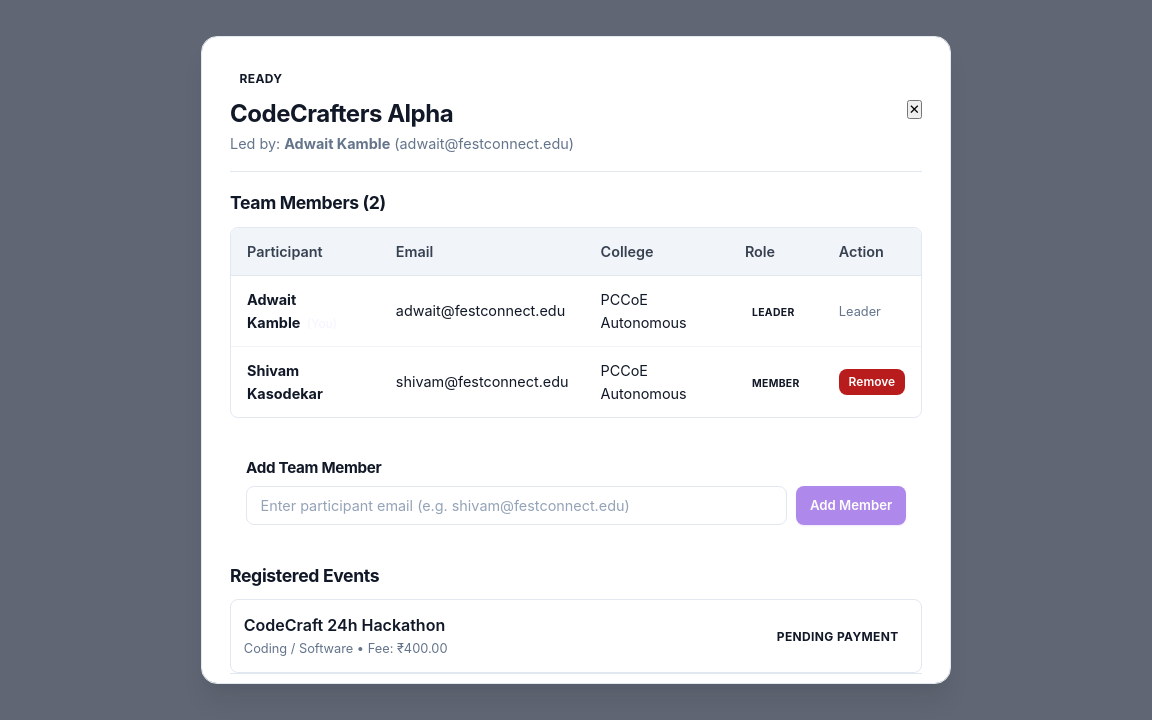
Test: Phase 05 — Team & Registration Frontend Component Tests › TeamDetailModal › renders member roster and allows team leader to add member by email
This screenshot has width=1152, height=720.
expect the heading "Team Members (2)" is shown: met, box [230,192,386,214]
expect the text "Adwait Kamble" is shown 2 times: met, box [284,135,390,152]; [247,291,300,331]
// Team leader can see Add Member form
Type "nikhil@festconnect.edu" into the field with placeholder "Enter participant email (e.g. shivam@festconnect.edu)".
click(516, 506); type("nikhil@festconnect.edu")  # box [246,486,786,525]
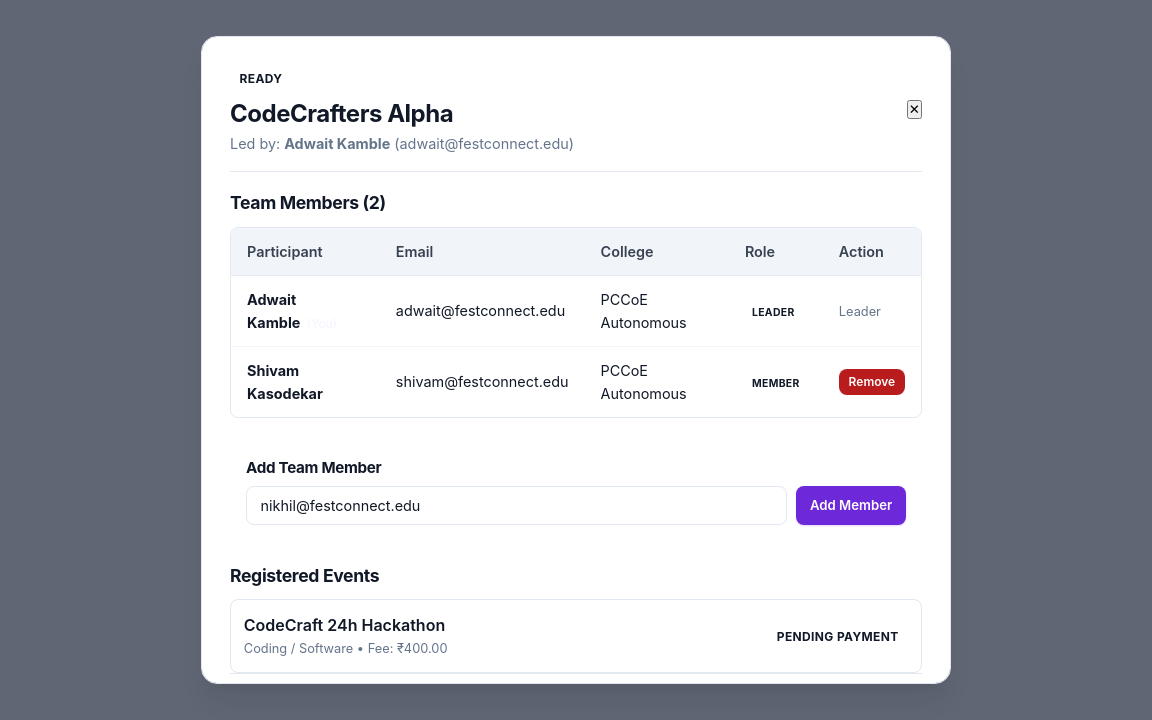
Click the button "Add Member".
click(851, 506)  # box [796,486,906,525]
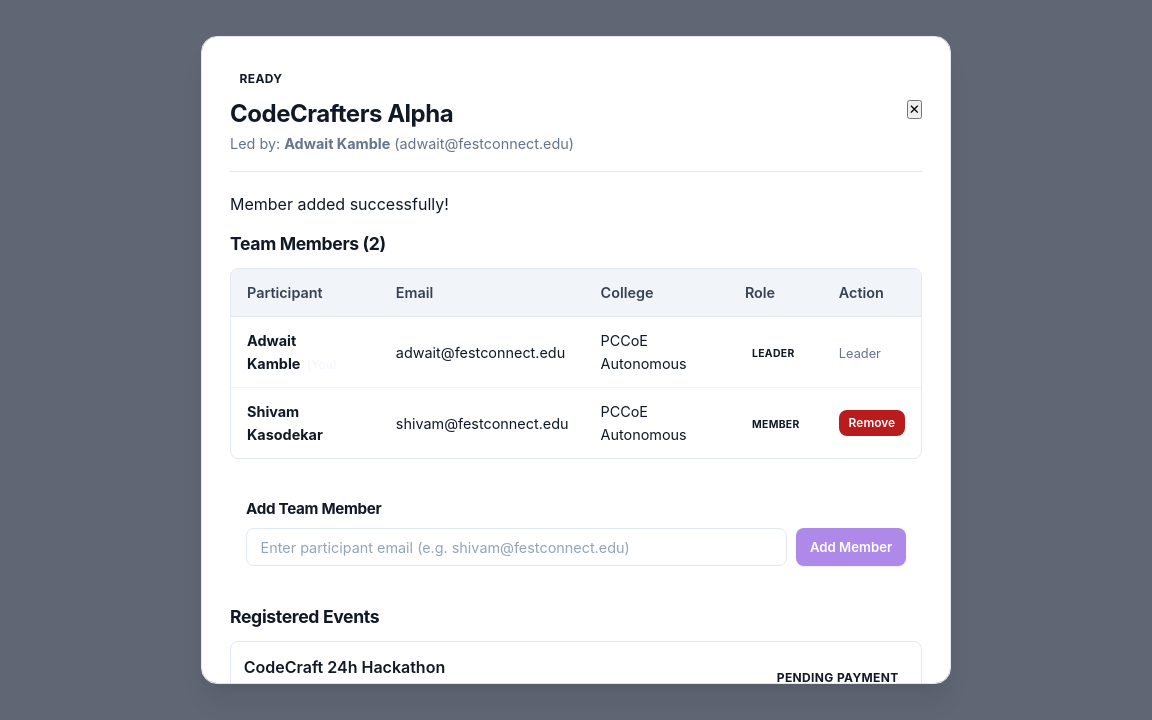
expect the text "Member added successfully!" is shown: met, box [230,194,449,214]
